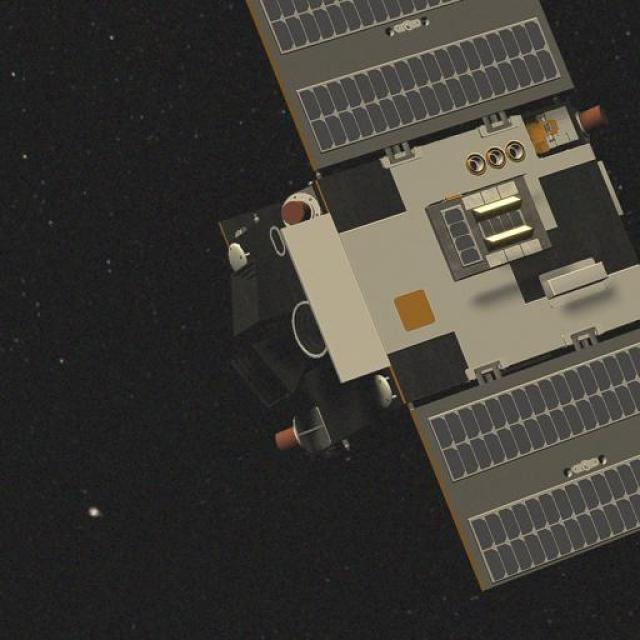proba_2: (194, 1, 640, 602)
